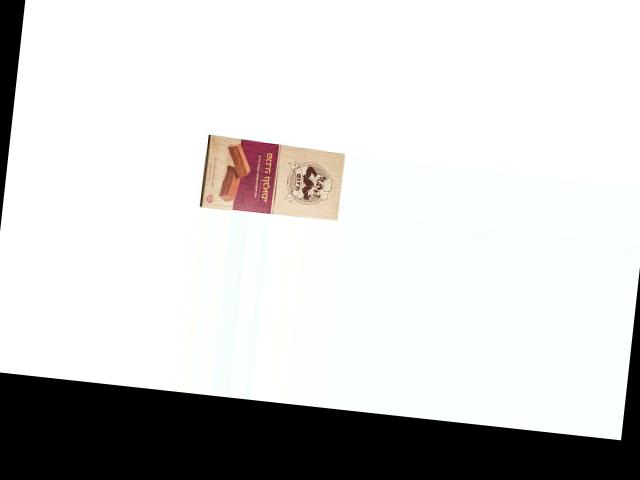chocolate: (199, 132, 346, 219)
